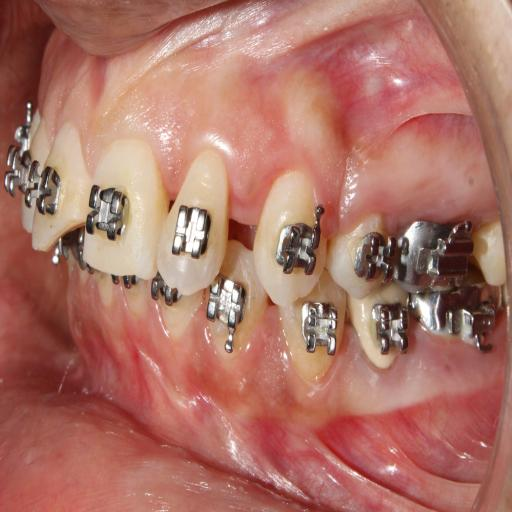correct_brace: (329, 212, 392, 292), (87, 178, 131, 248), (277, 212, 321, 282), (169, 194, 213, 259)
incorrect_brace: (157, 148, 232, 296), (356, 228, 395, 278)
